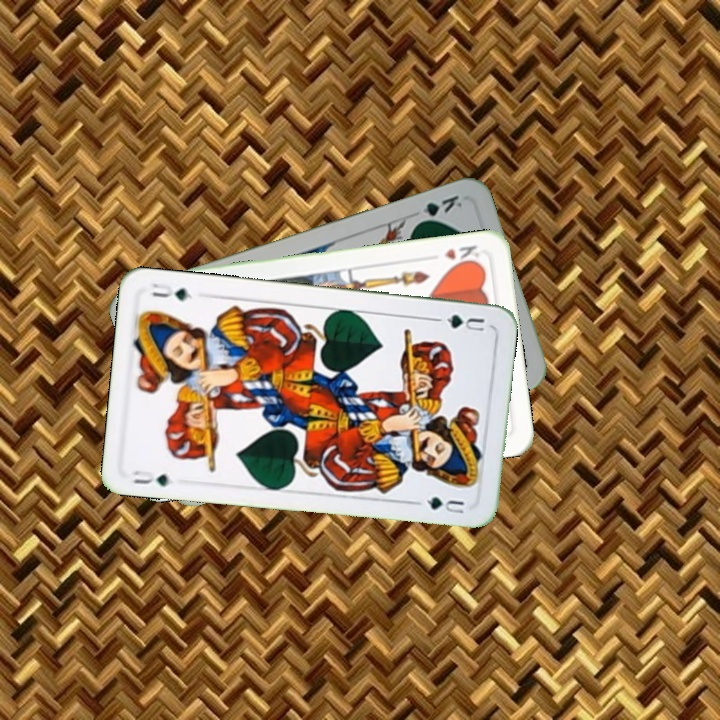GK: (411, 191, 465, 227)
GU: (441, 310, 487, 334), (127, 466, 172, 490)
HK: (440, 241, 482, 269)
